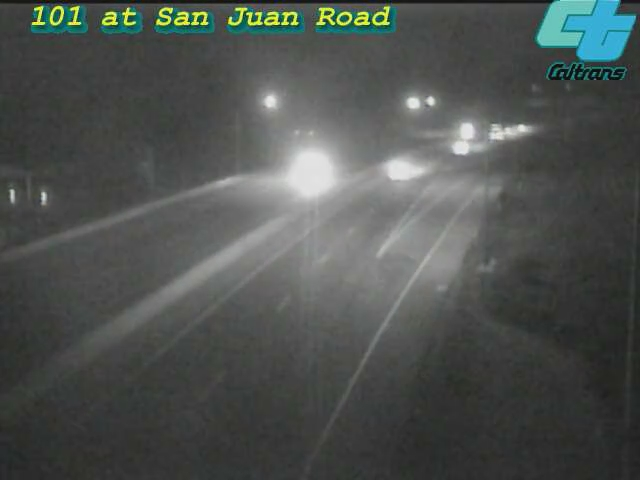vehicle: (272, 130, 352, 210), (369, 125, 449, 205), (442, 104, 492, 154), (500, 101, 550, 151), (479, 106, 529, 156), (438, 121, 488, 171)
